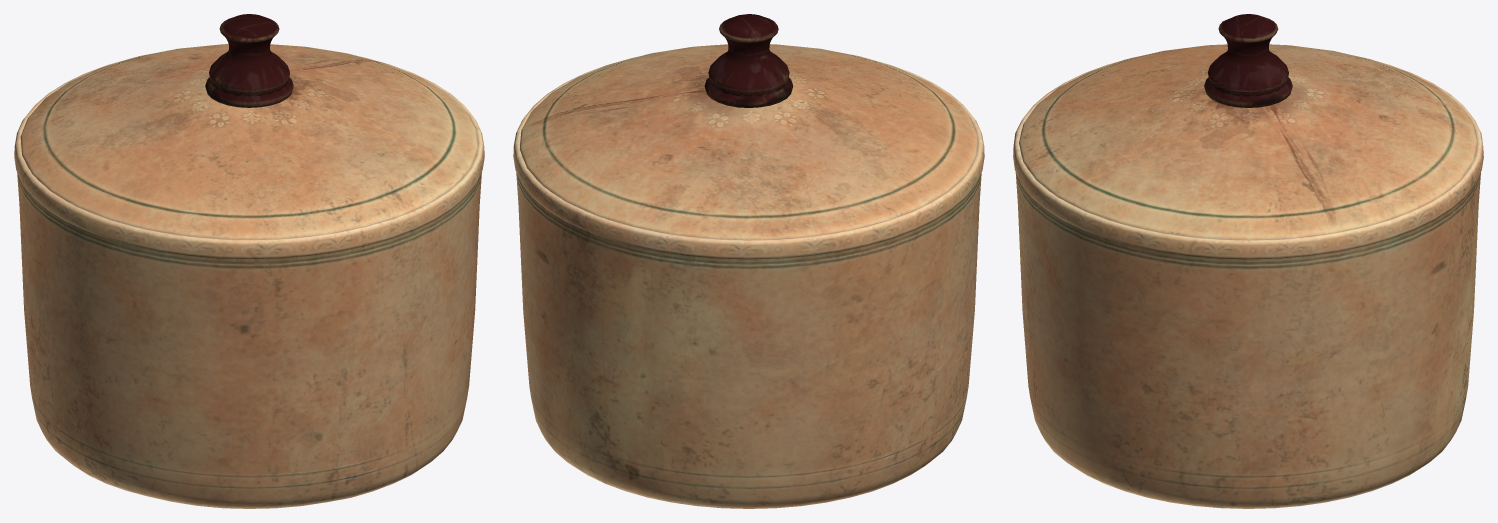
Rendered from brass_pot_01.glb.
The picture shows the model from 3 angles, left to right: view 1: azimuth 30°, elevation 25°; view 2: azimuth 150°, elevation 25°; view 3: azimuth 270°, elevation 25°; orthographic projection.
Visible parts, largest first — view 1: brass_pot_01; view 2: brass_pot_01; view 3: brass_pot_01.
Boxes of the visible parts, <box> form: brass_pot_01: <box>14,14,484,508</box>; brass_pot_01: <box>513,14,984,508</box>; brass_pot_01: <box>1013,14,1483,508</box>.
Size of the model in its own units: 0.3019 by 0.291 by 0.3017.
Materials: 1 (1 with a texture image).
